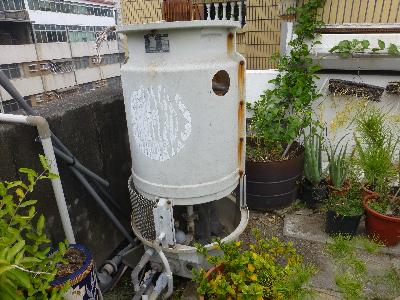water_tower: (116, 19, 251, 280)
